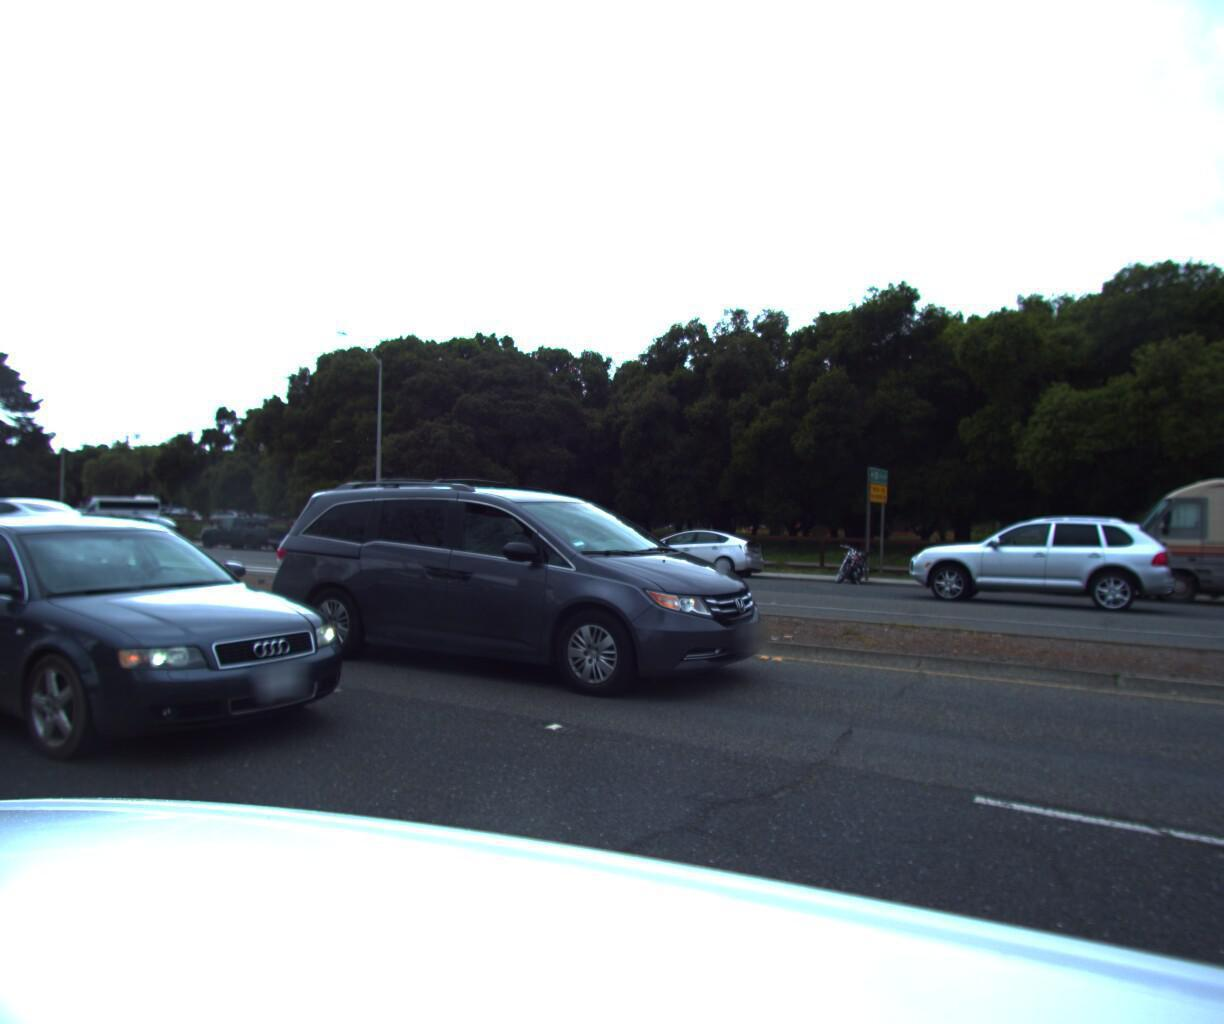car: (263, 464, 794, 717), (0, 504, 403, 796), (908, 514, 1192, 617), (619, 526, 769, 583), (0, 497, 112, 557), (196, 514, 303, 555), (99, 515, 191, 549)
motorcycle: (828, 535, 880, 589)
other_vehicle: (1102, 451, 1224, 636)
